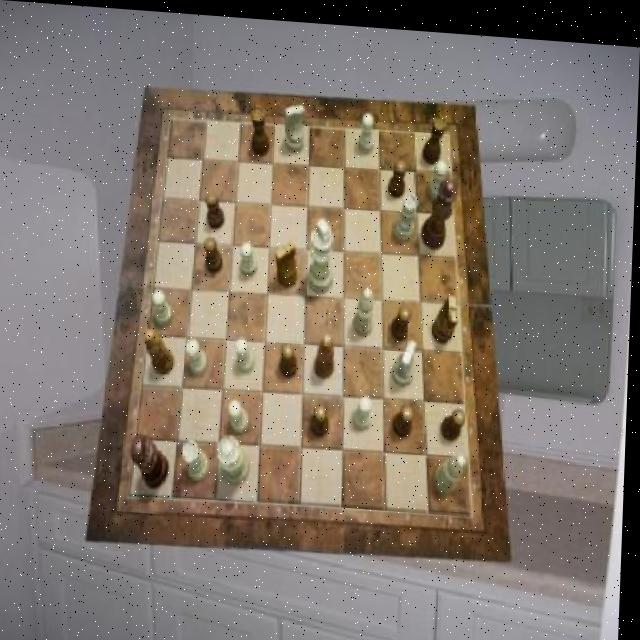bishop: (145, 326, 177, 373), (316, 328, 337, 375)
black-bishop: (133, 432, 172, 488)
black-king: (432, 287, 460, 338), (276, 237, 300, 284)
black-knight: (443, 401, 469, 436), (206, 188, 227, 226), (395, 398, 417, 433), (204, 233, 224, 271), (391, 299, 412, 334), (313, 397, 333, 433), (390, 154, 408, 192), (281, 339, 300, 374)
black-pawn: (421, 171, 459, 246)
black-queen: (422, 106, 447, 159), (251, 101, 271, 153)
black-rook: (436, 444, 468, 489), (354, 281, 375, 331)
white-bishop: (309, 212, 336, 290)
white-king: (394, 333, 419, 380), (284, 100, 305, 150)
white-knight: (187, 336, 211, 373), (154, 288, 176, 325), (430, 153, 449, 194), (236, 333, 257, 370), (230, 396, 252, 431), (354, 389, 375, 425), (360, 106, 376, 148), (241, 238, 260, 273)
white-pawn: (219, 431, 254, 481)
white-queen: (185, 438, 214, 479), (394, 187, 418, 235)
